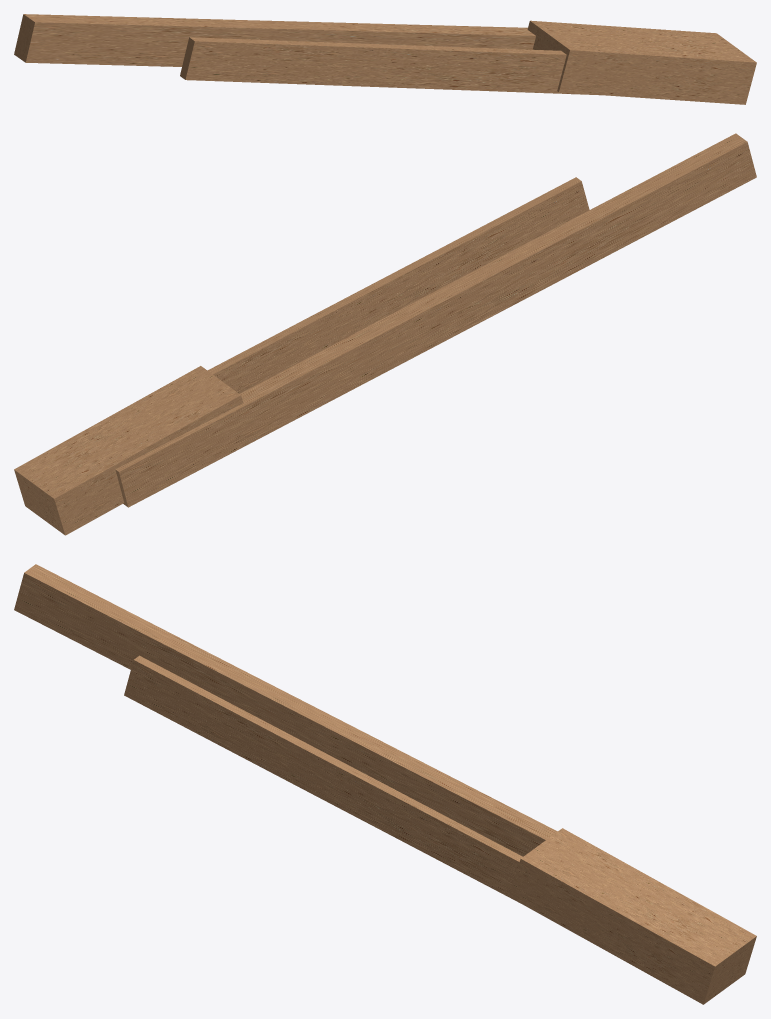
The model's file is Obstacle-start-tunnel.glb.
3 renders of one model, top to bottom at view 1: azimuth 30°, elevation 25°; view 2: azimuth 210°, elevation 25°; view 3: azimuth 330°, elevation 25°, orthographic. The views are drawn at different scales.
Parts seen in each view (by area): view 1: Cube_2_5_Mat.2_0, Cube_2_5_Mat.2_0.001, Cube_6_7_Mat.2_0; view 2: Cube_2_5_Mat.2_0.001, Cube_2_5_Mat.2_0, Cube_6_7_Mat.2_0; view 3: Cube_2_5_Mat.2_0.001, Cube_6_7_Mat.2_0, Cube_2_5_Mat.2_0.
Boxes of the visible parts, x1=… form: Cube_2_5_Mat.2_0: x1=180, y1=37, x2=600, y2=95; Cube_2_5_Mat.2_0.001: x1=14, y1=14, x2=535, y2=66; Cube_6_7_Mat.2_0: x1=527, y1=20, x2=756, y2=104; Cube_2_5_Mat.2_0.001: x1=115, y1=133, x2=756, y2=507; Cube_2_5_Mat.2_0: x1=207, y1=177, x2=589, y2=393; Cube_6_7_Mat.2_0: x1=14, y1=366, x2=243, y2=535; Cube_2_5_Mat.2_0.001: x1=14, y1=564, x2=557, y2=856; Cube_6_7_Mat.2_0: x1=509, y1=828, x2=756, y2=1004; Cube_2_5_Mat.2_0: x1=124, y1=655, x2=522, y2=902.
Size of the model in its own units: 4.69 by 1.45 by 0.5054.
Materials: 1 (1 with a texture image).
